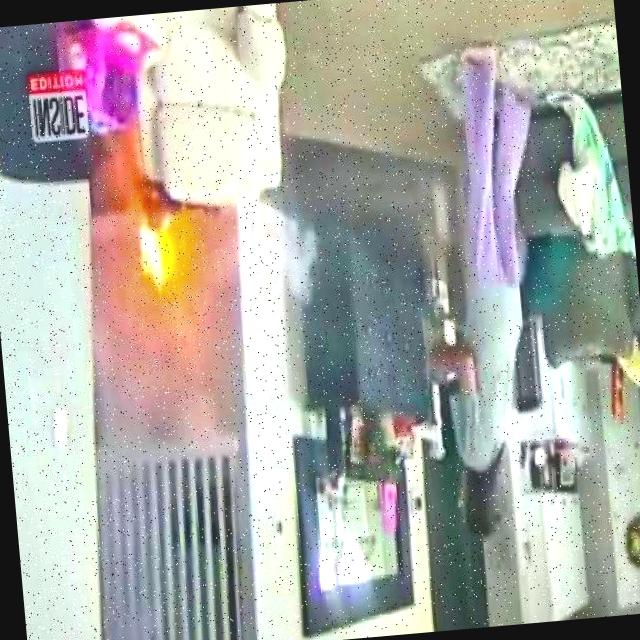fire: (94, 172, 215, 310)
